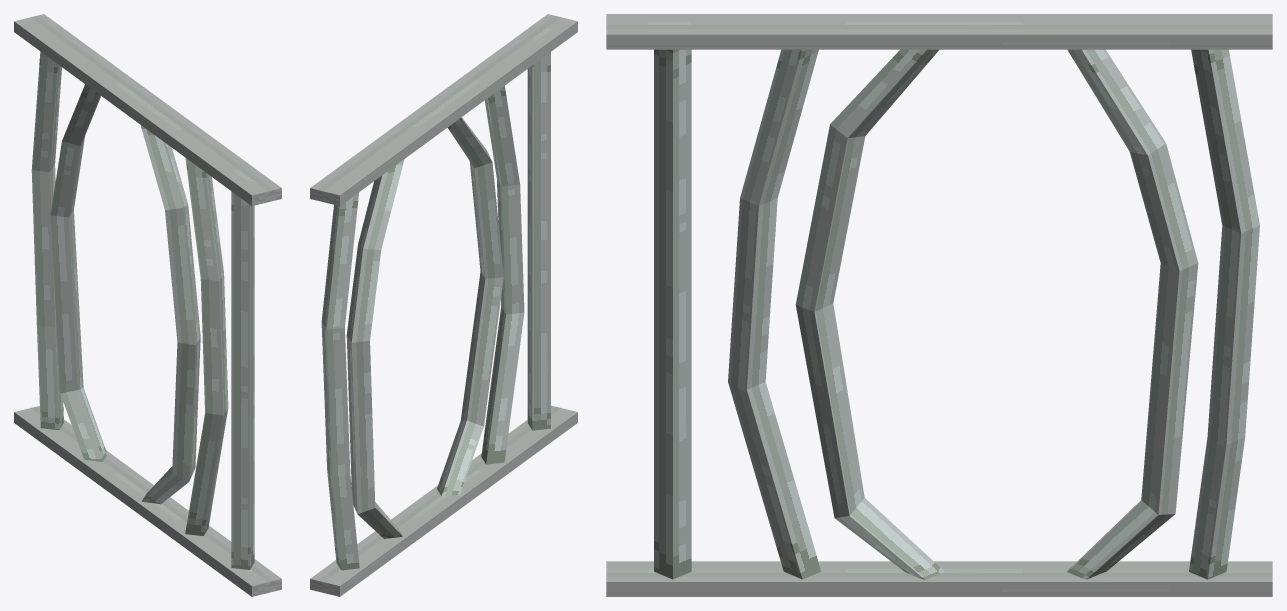
The model's file is Prison_Bars2.fbx.
3 renders of one model, left to right at view 1: azimuth 30°, elevation 25°; view 2: azimuth 150°, elevation 25°; view 3: azimuth 270°, elevation 25°, orthographic. The views are drawn at different scales.
Parts seen in each view (by area): view 1: Cube.007, Cube.002, Cube.004, Cube.003, Cube.005, Cube.008, Cube.006; view 2: Cube.007, Cube.002, Cube.004, Cube.003, Cube.006, Cube.005, Cube.008; view 3: Cube.007, Cube.008, Cube.002, Cube.004, Cube.006, Cube.005, Cube.003.
Boxes of the visible parts, x1,y1,x2,y2 form: Cube.007: (14,14,281,205); Cube.002: (140,125,200,504); Cube.004: (50,84,107,461); Cube.003: (231,191,254,569); Cube.005: (185,158,228,535); Cube.008: (14,406,281,596); Cube.006: (31,51,63,430); Cube.007: (310,14,577,205); Cube.002: (437,117,503,496); Cube.004: (346,159,404,538); Cube.003: (527,52,550,430); Cube.006: (321,192,359,570); Cube.005: (481,86,524,464); Cube.008: (310,405,577,596); Cube.007: (606,14,1272,49); Cube.008: (606,561,1272,596); Cube.002: (795,49,944,579); Cube.004: (1067,49,1198,579); Cube.006: (1189,49,1259,579); Cube.005: (728,49,821,579); Cube.003: (654,49,691,579).
Bounding box in the file's own units: 4 × 3.72 × 0.3029.
